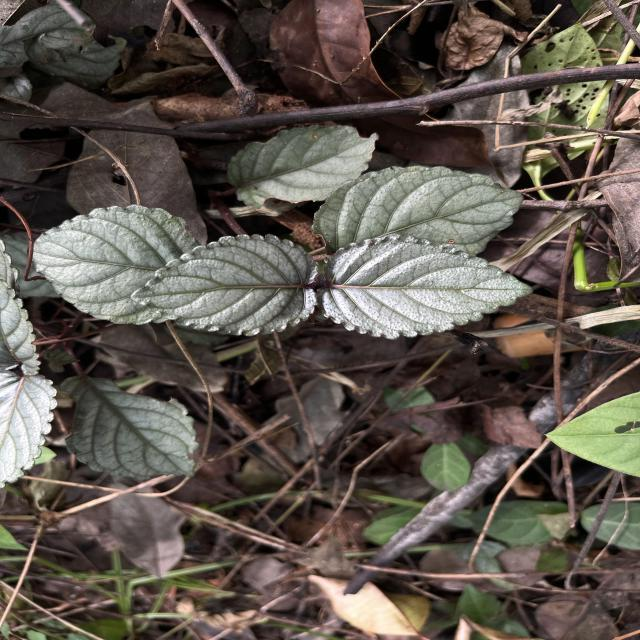Hemigraphis colorata: (315, 232, 537, 342), (27, 202, 206, 328), (126, 233, 322, 338), (310, 163, 526, 256), (58, 374, 202, 484), (224, 122, 381, 212), (0, 370, 59, 490)
